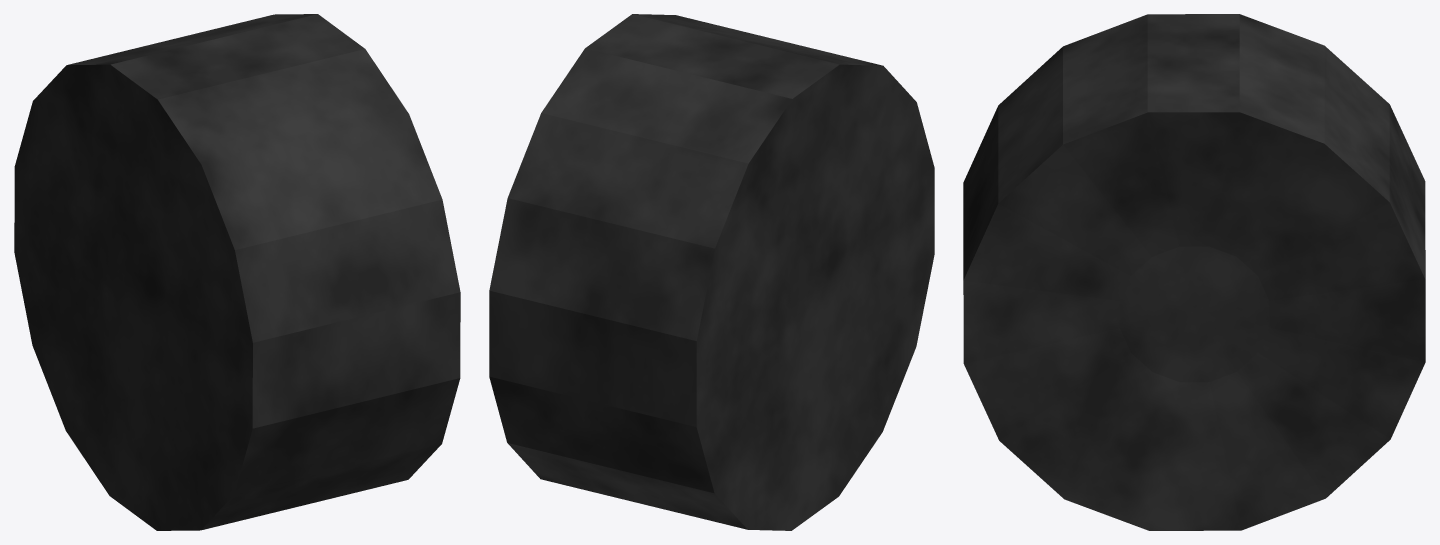
Rendered from llanta_DD.obj.
3 renders of one model, left to right at view 1: azimuth 30°, elevation 25°; view 2: azimuth 150°, elevation 25°; view 3: azimuth 270°, elevation 25°, orthographic. The views are drawn at different scales.
Parts seen in each view (by area): view 1: rueda_DD; view 2: rueda_DD; view 3: rueda_DD.
Boxes of the visible parts, bbox=[...] form: rueda_DD: bbox=[14, 14, 460, 530]; rueda_DD: bbox=[489, 14, 934, 530]; rueda_DD: bbox=[963, 14, 1425, 530].
Size of the model in its own units: 0.3463 by 0.6887 by 0.6887.
1 material, 1 textured.
